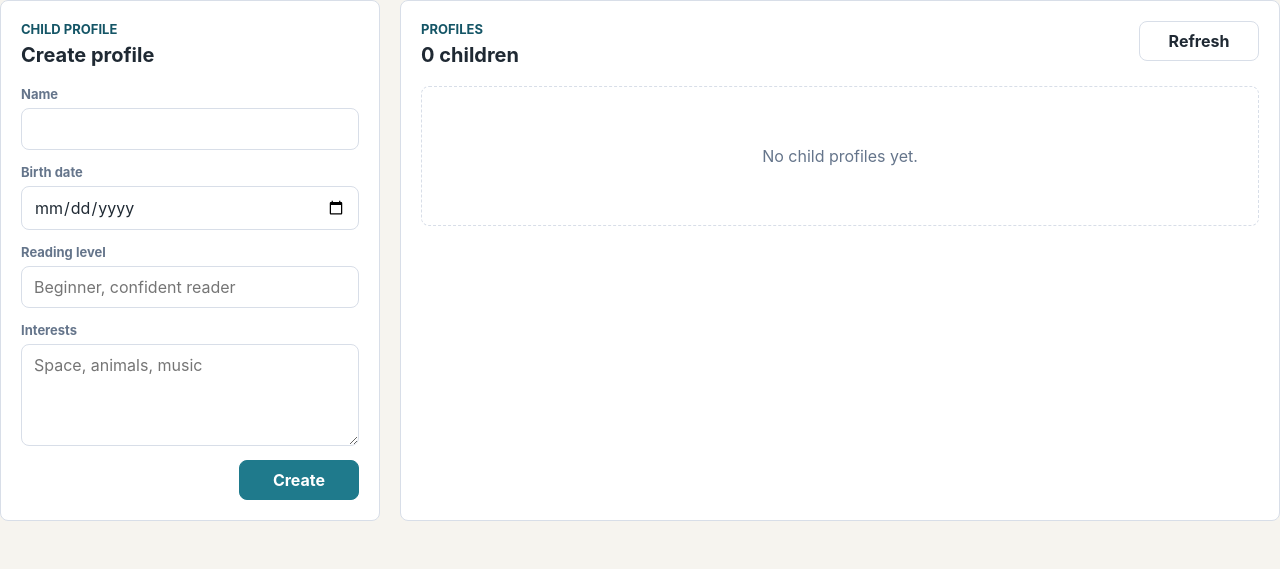
ChildrenManager › displays form error when createChild fails
Check: the text "No child profiles yet." is shown, box [421,86,1259,226]
Type "Test" into the field labelled "Name" at (190, 129), box [21,108,359,150]
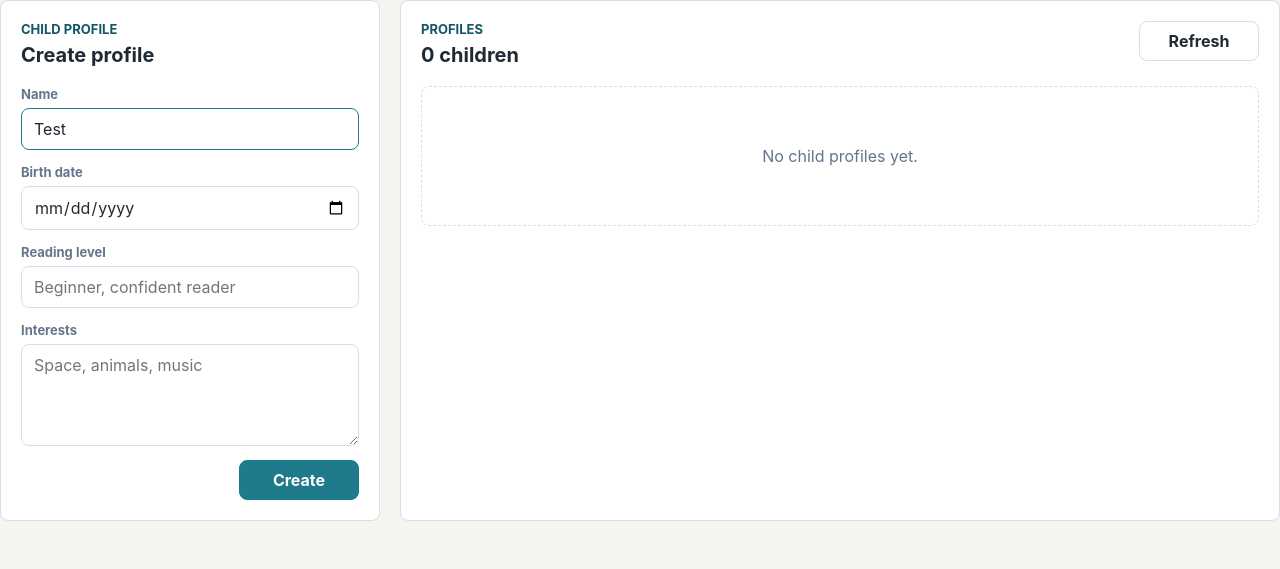
Click the button "Create" at (299, 480), box [239,460,359,500]
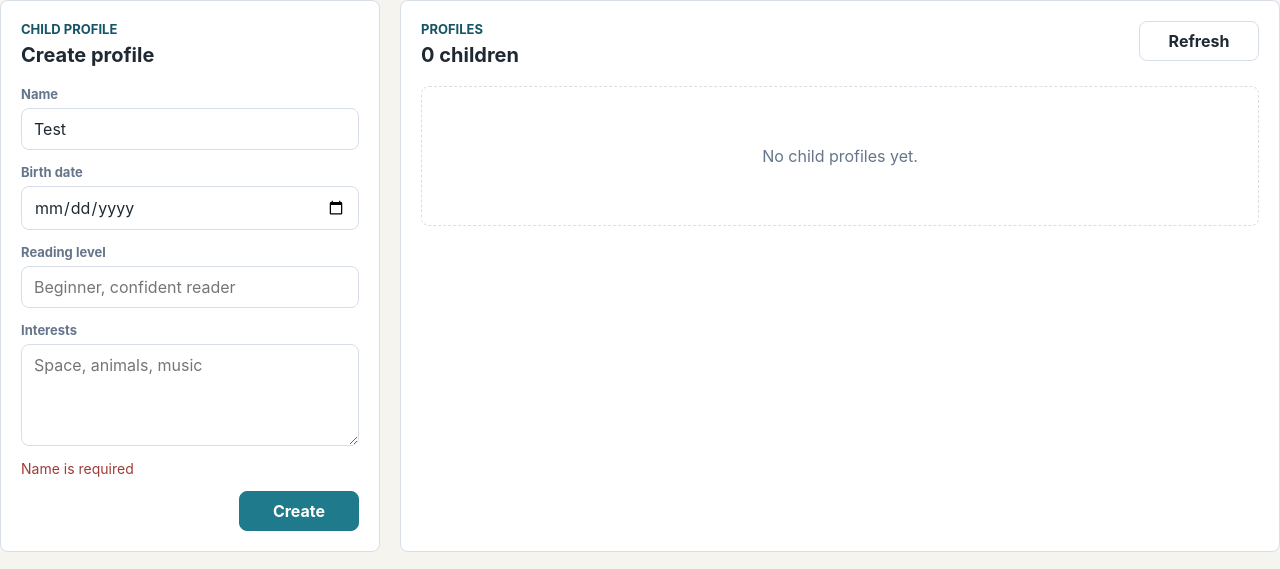
Check: the text "Name is required" is shown, box [21,460,134,477]
